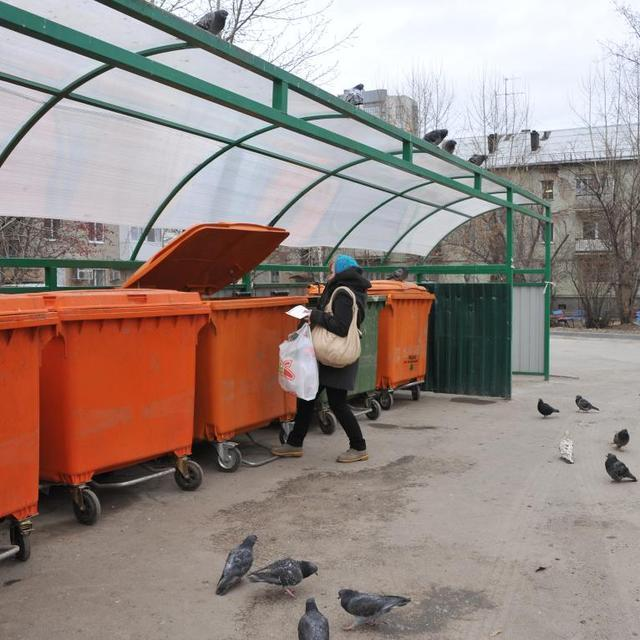Trash_Can_Closed: (40, 288, 212, 479), (194, 294, 306, 441), (0, 293, 59, 520), (370, 279, 436, 390)
Trash_Can_Empty: (309, 295, 389, 403)
